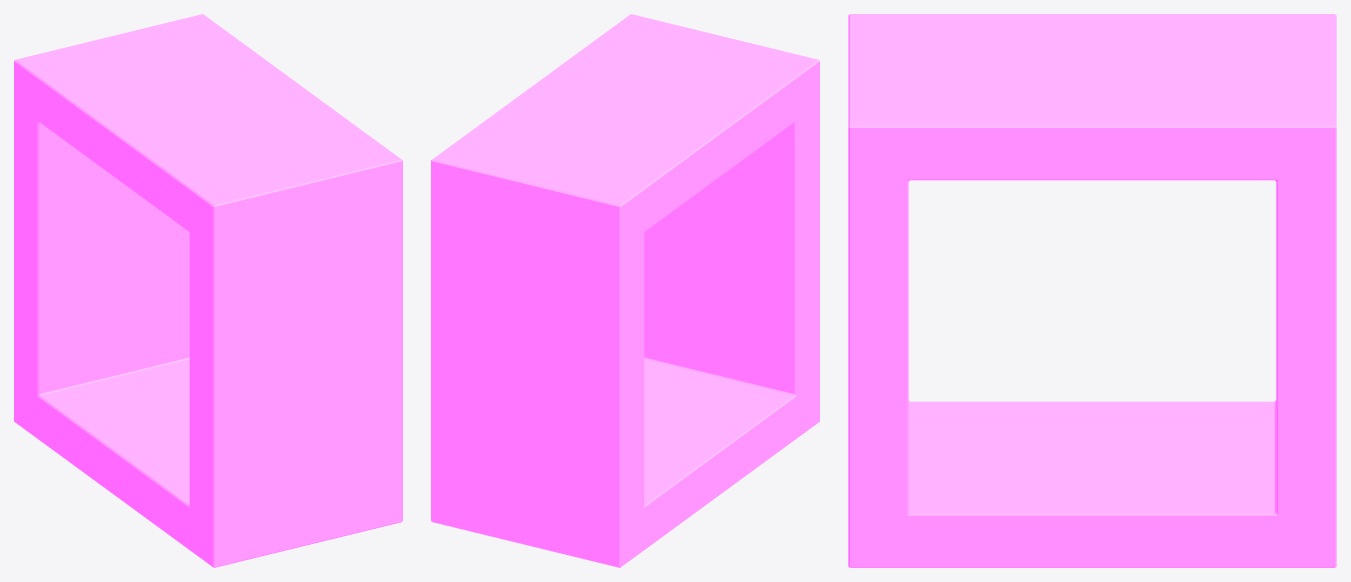
Rendered from square.glb.
3 views of the same model, side by side, from view 1: azimuth 30°, elevation 25°; view 2: azimuth 150°, elevation 25°; view 3: azimuth 270°, elevation 25° (orthographic). The views are drawn at different scales.
Visible parts, largest first — view 1: PS_Lamp_Square_0; view 2: PS_Lamp_Square_0; view 3: PS_Lamp_Square_0.
Boxes of the visible parts, box(x1,y1,x2,y2) form: PS_Lamp_Square_0: box(14, 14, 402, 567); PS_Lamp_Square_0: box(431, 14, 819, 567); PS_Lamp_Square_0: box(848, 14, 1336, 567).
Bounding box in the file's own units: 0.0329 × 0.06 × 0.06.
